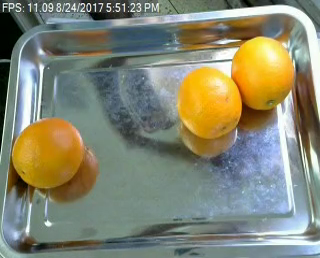Orange: (11, 117, 84, 187), (178, 68, 243, 141), (232, 37, 295, 110)
